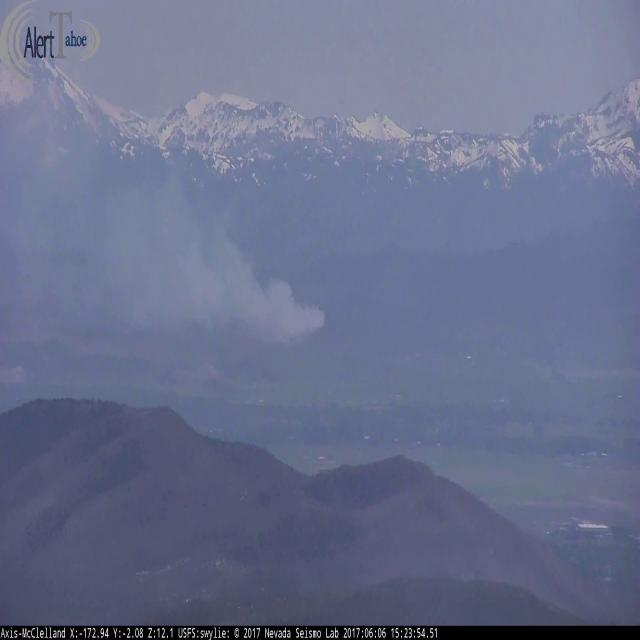smoke: (51, 153, 347, 346)
